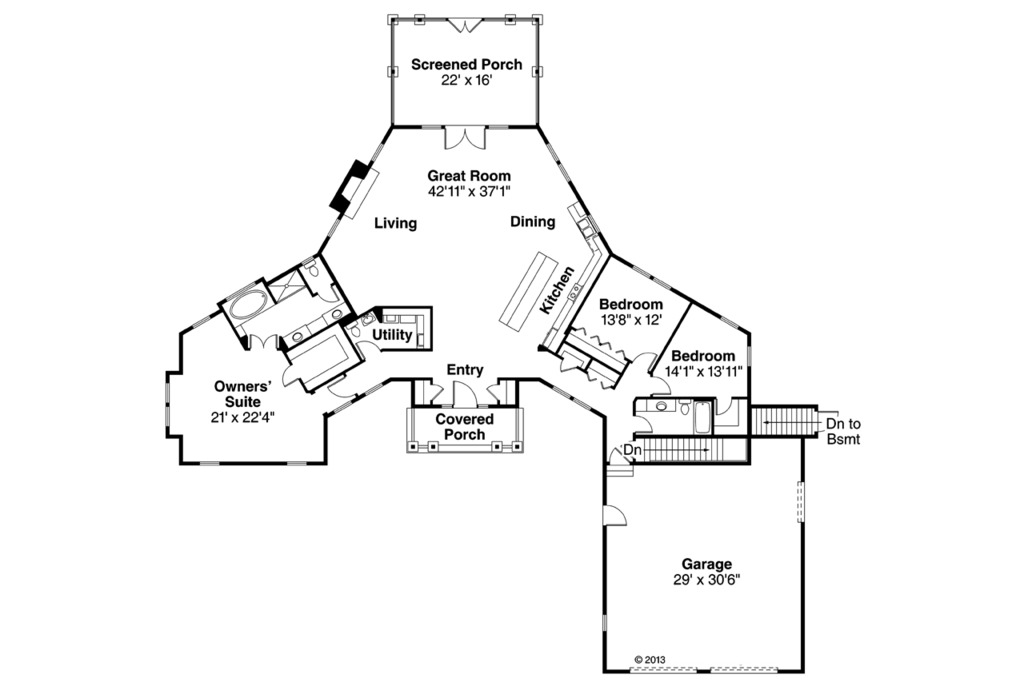door: (440, 120, 499, 157), (609, 447, 643, 478), (447, 377, 476, 413), (442, 13, 486, 36), (602, 505, 638, 531), (352, 338, 388, 362), (328, 379, 363, 402), (646, 372, 676, 398), (485, 379, 509, 407), (632, 346, 656, 374), (428, 379, 451, 405), (312, 287, 347, 304), (245, 336, 279, 353), (631, 412, 657, 434), (282, 359, 301, 389), (716, 393, 732, 417)
large_sink: (293, 247, 331, 282)
small_sink: (286, 311, 350, 342), (362, 311, 381, 330)
stairs: (642, 439, 757, 472), (747, 402, 849, 439)
tub: (205, 283, 272, 319)
twin_sink: (575, 212, 599, 244)
window: (708, 662, 777, 676), (163, 374, 177, 434), (795, 477, 811, 527), (365, 130, 390, 162), (630, 665, 701, 676), (279, 458, 320, 470), (197, 455, 225, 467)
